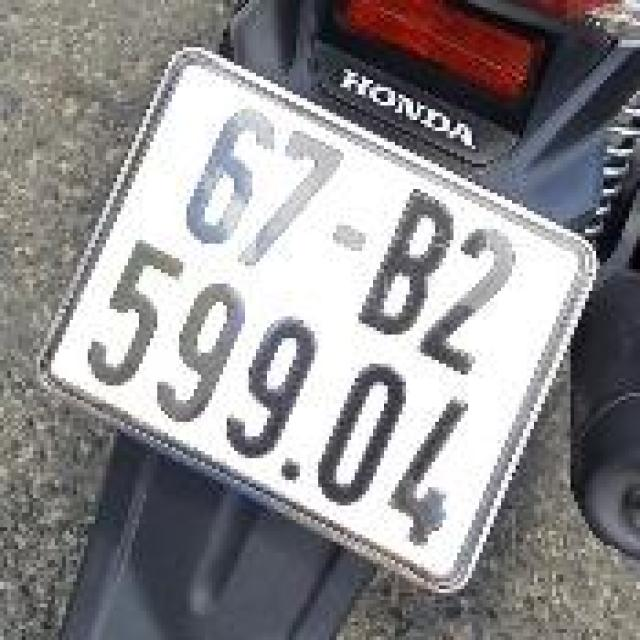0: (302, 344, 428, 522)
2: (403, 209, 556, 398)
4: (370, 382, 501, 558)
5: (75, 227, 203, 400)
6: (167, 93, 289, 258)
7: (220, 115, 366, 289)
9: (141, 262, 267, 440), (211, 298, 337, 473)
B: (351, 173, 476, 353)
